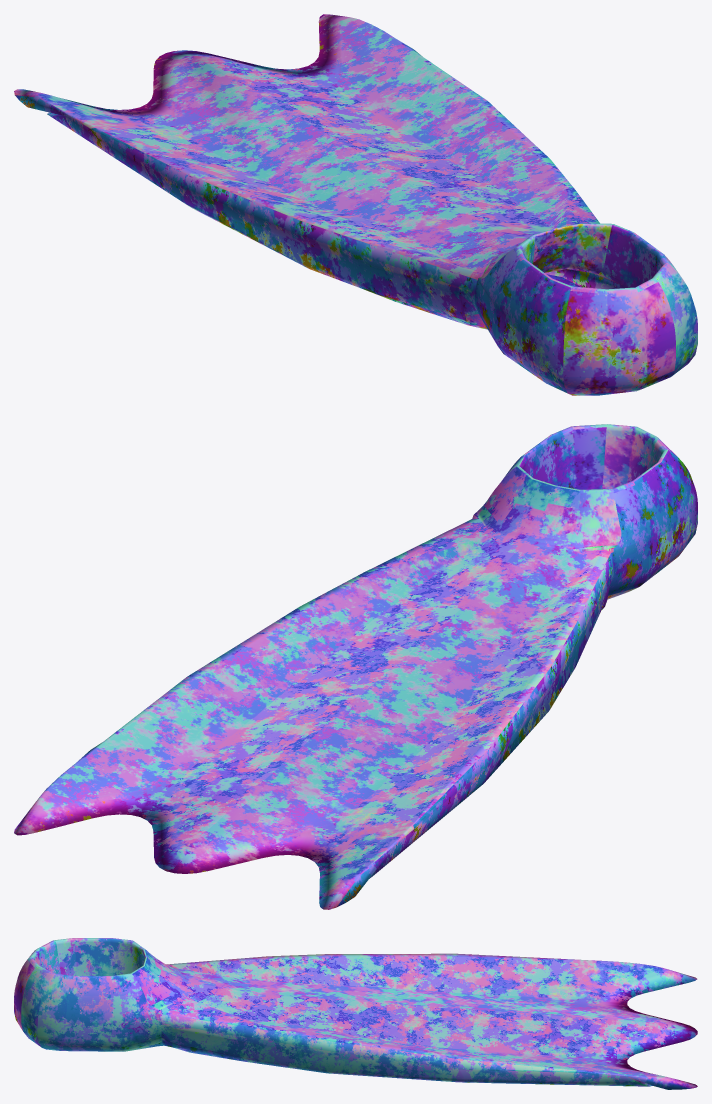
File: DivingFin.fbx
3 views of the same model, one above another, from view 1: azimuth 30°, elevation 25°; view 2: azimuth 150°, elevation 25°; view 3: azimuth 270°, elevation 25° (orthographic). The views are drawn at different scales.
Parts seen in each view (by area): view 1: Fin; view 2: Fin; view 3: Fin.
Boxes of the visible parts, x1,y1,x2,y2 form: Fin: (14,14,697,395); Fin: (14,424,697,909); Fin: (14,938,697,1089).
Bounding box in the file's own units: 487 × 150 × 1230.
1 material, 1 textured.
